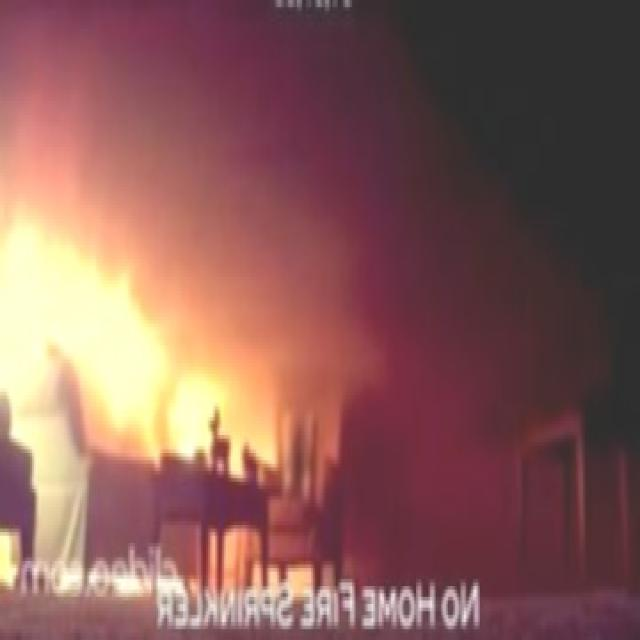fire: (0, 187, 231, 471)
